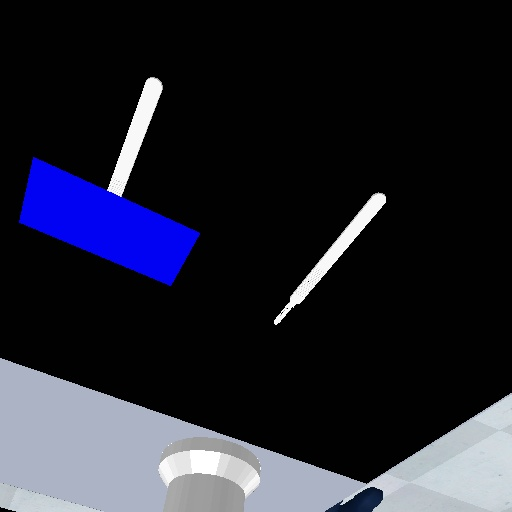bisturi: (270, 187, 392, 328), (102, 71, 167, 200)
